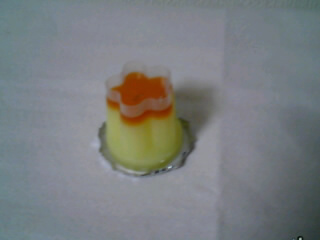001_classes: (88, 58, 207, 191)
